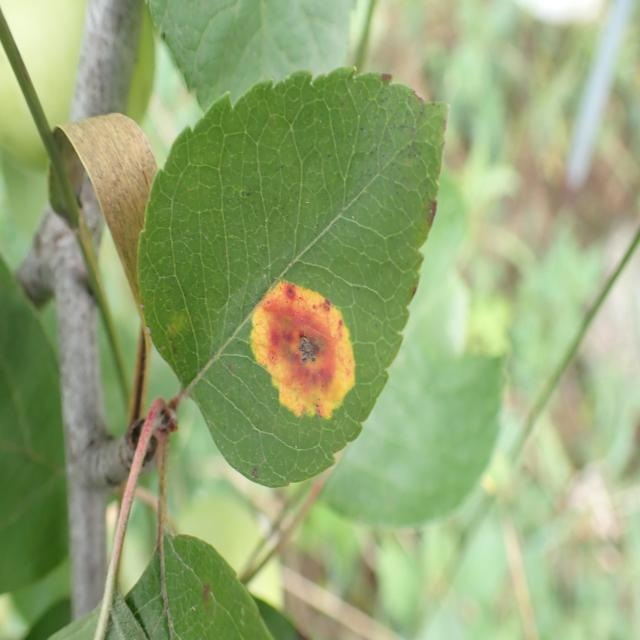Rust: (233, 264, 381, 443)
